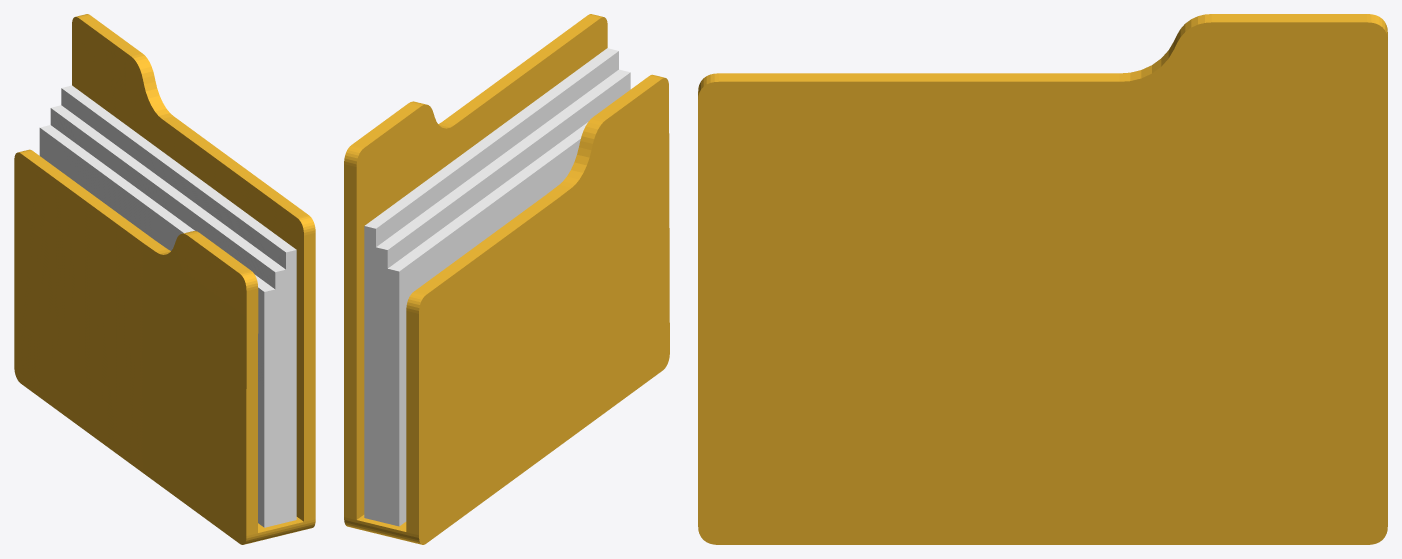
The model's file is folder.glb.
3 renders of one model, left to right at view 1: azimuth 30°, elevation 25°; view 2: azimuth 150°, elevation 25°; view 3: azimuth 270°, elevation 25°, orthographic. The views are drawn at different scales.
Visible parts, largest first — view 1: Folder, Paper; view 2: Folder, Paper; view 3: Folder.
Boxes of the visible parts, <box> form: Folder: <box>14,14,315,544</box>; Paper: <box>39,85,296,527</box>; Folder: <box>344,14,669,544</box>; Paper: <box>364,48,630,526</box>; Folder: <box>698,14,1387,544</box>.
Size of the model in its own units: 0.8597 by 4.17 by 4.99.
